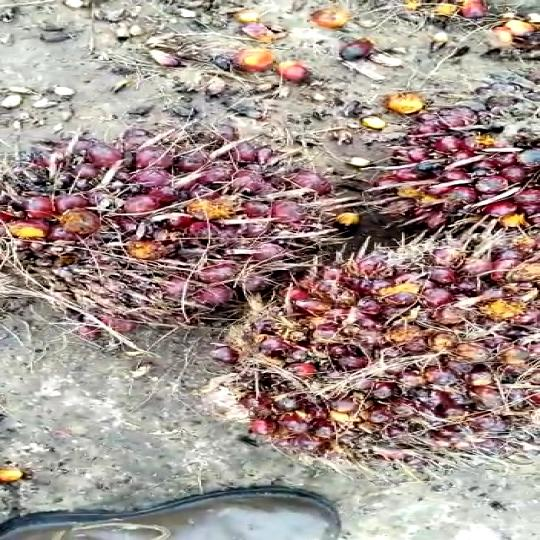masak: (227, 210, 540, 484), (0, 120, 364, 335), (397, 67, 540, 235)
